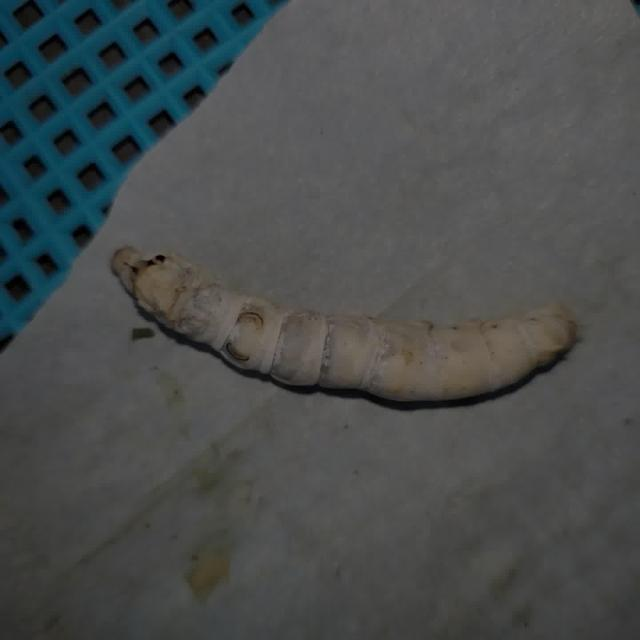Grasserie: (92, 212, 596, 438)
